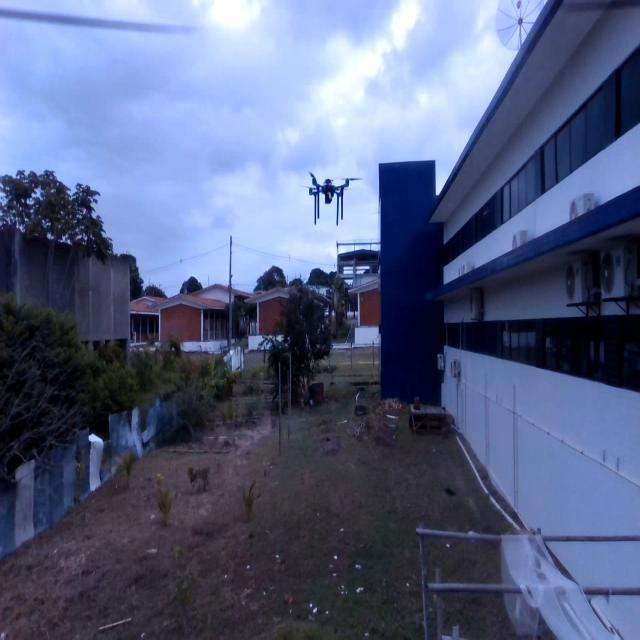-uav-: (292, 146, 369, 242)
